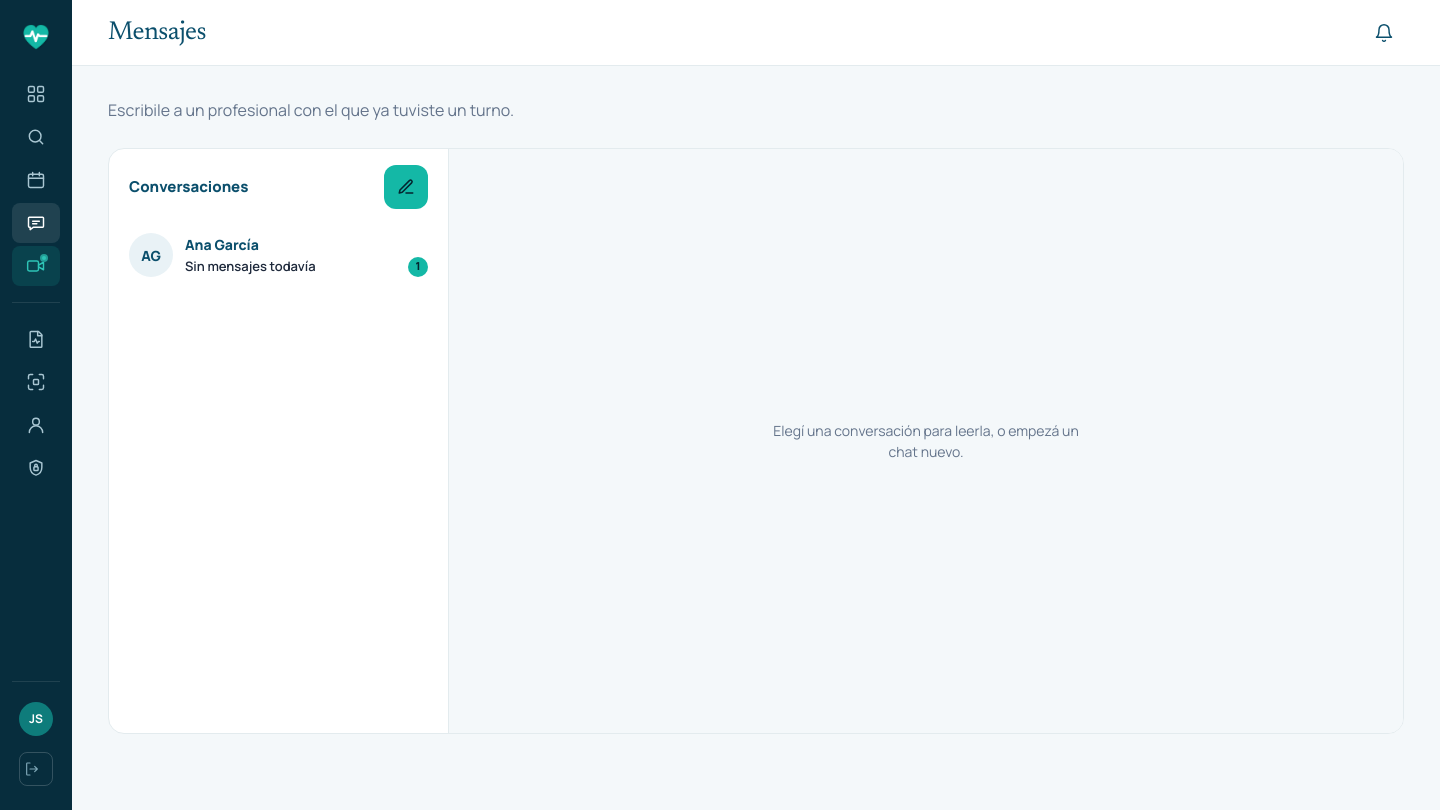
it: MessagesPage (ENG-70) › Nuevo chat ofrece a todos con quienes hubo turno, y marca con quién ya hay chat
Click the button named "Nuevo chat" at (406, 187), box [384, 165, 428, 209]
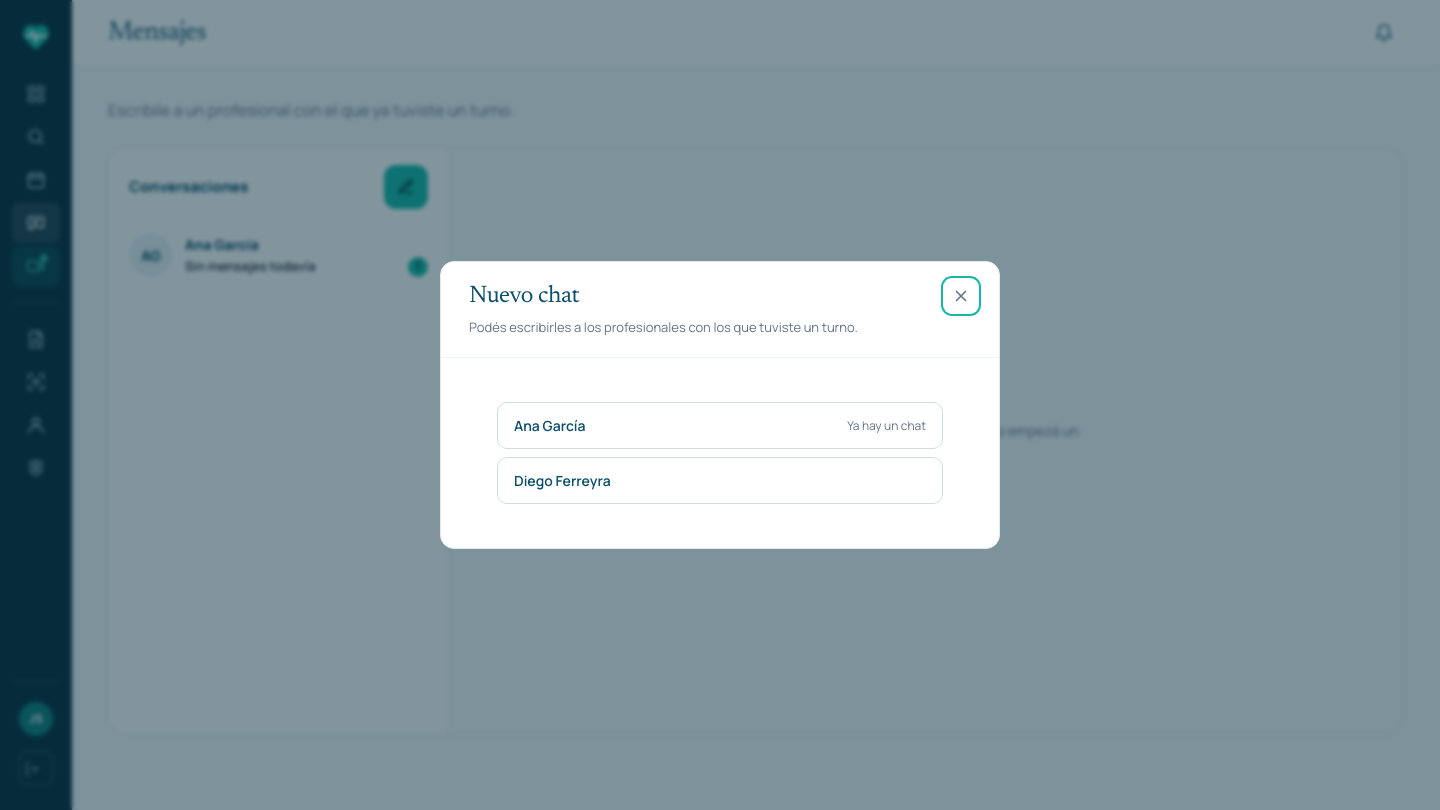
Check: the button "Diego Ferreyra" is shown, box [497, 457, 943, 504]
Check: the button "Ana García Ya hay un chat" is shown, box [497, 402, 943, 449]
